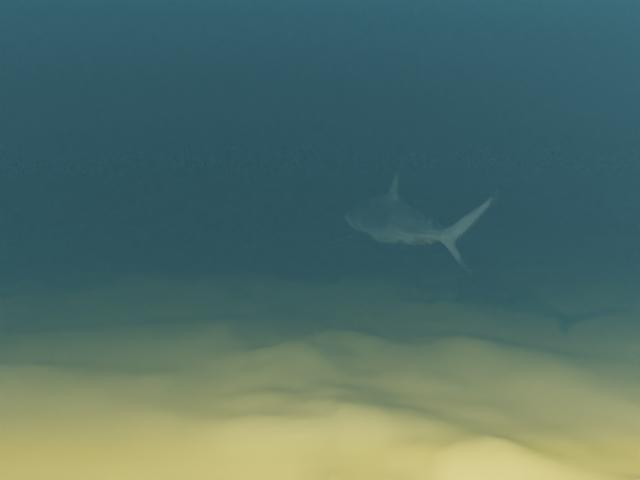Carribean Shark.001: (319, 169, 500, 272)
